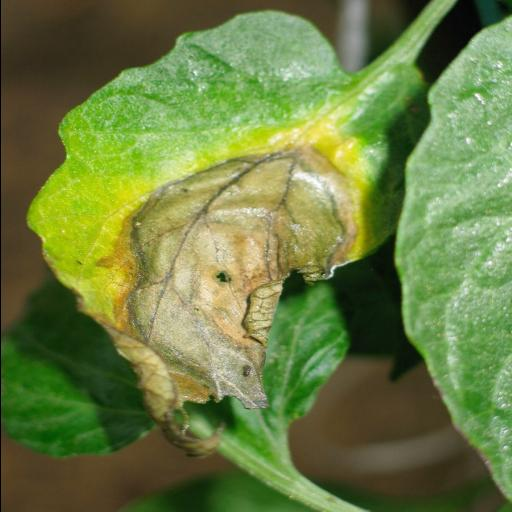disease_tomato: (26, 9, 426, 457)
